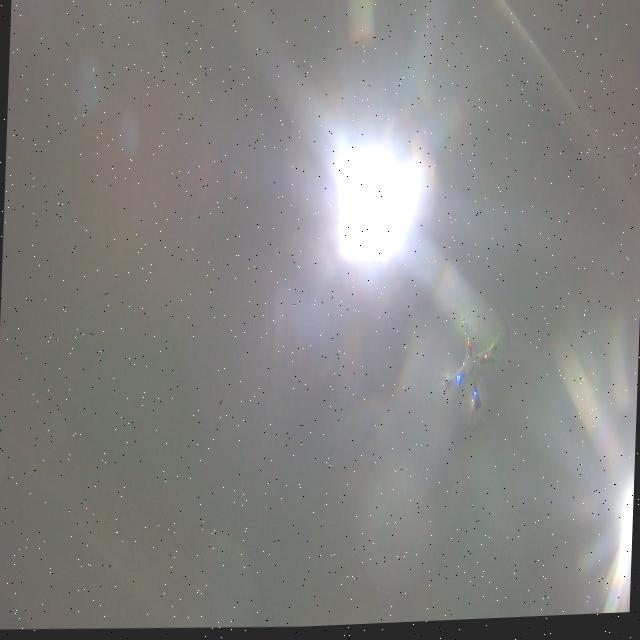drone: (429, 291, 513, 441)
